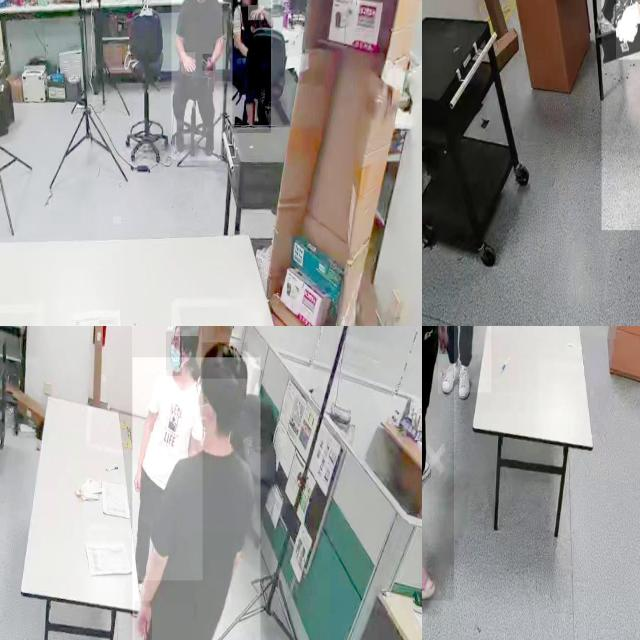face_mask: (166, 332, 182, 376)
face_nomask: (241, 0, 251, 7)
hand_glove: (616, 0, 640, 60)
hand_noglove: (134, 601, 152, 640), (181, 52, 196, 73), (130, 466, 142, 492), (439, 326, 448, 355), (248, 5, 264, 21), (202, 54, 214, 72)
head_nohelmet: (201, 342, 248, 380), (174, 326, 199, 337)
person: (132, 357, 261, 640), (131, 326, 202, 580), (422, 326, 454, 601), (171, 0, 222, 161), (232, 0, 271, 133), (438, 326, 492, 393)
shoes: (422, 542, 437, 610), (437, 352, 459, 398), (170, 120, 190, 158), (198, 118, 218, 155), (457, 362, 471, 400)
